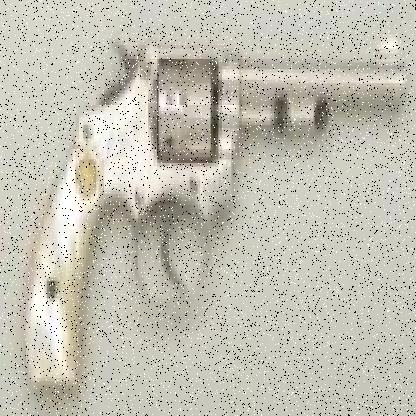pistol: (26, 31, 403, 388)
